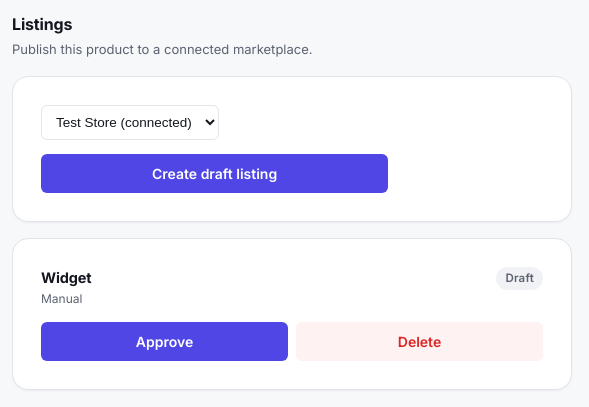
Test case: ListingsPanel › approves a draft listing, revealing the publish action
Click the button "Approve".
click(164, 342)  # box x1=41 y1=322 x2=288 y2=361
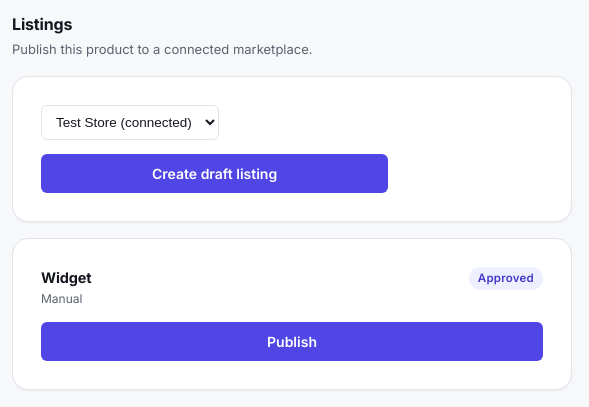
Expected: the button "Publish" is shown, x1=41 y1=322 x2=543 y2=361
